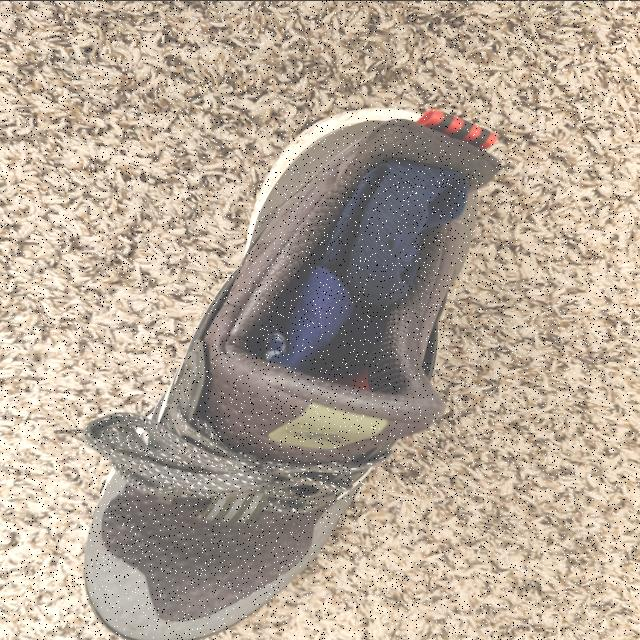black shoes: (98, 121, 499, 640)
